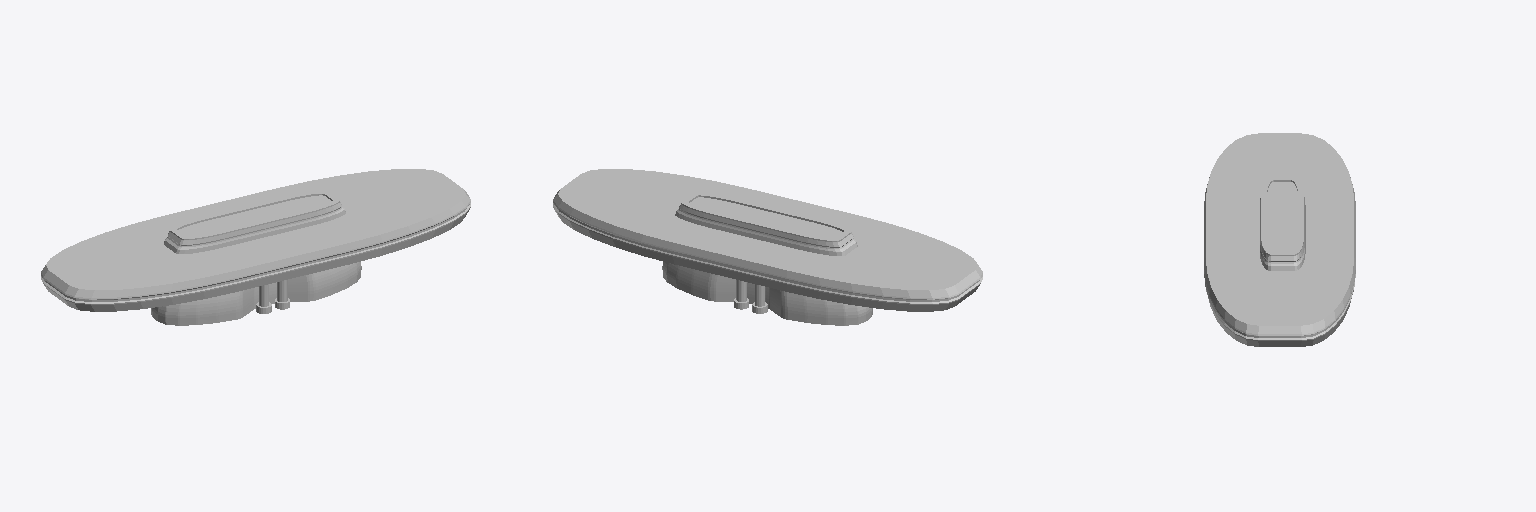
Rendered from Stolik.obj.
The picture shows the model from 3 angles: view 1: azimuth 30°, elevation 25°; view 2: azimuth 150°, elevation 25°; view 3: azimuth 270°, elevation 25°; orthographic projection.
Visible parts, largest first — view 1: Stolik.NR1_Cube.036; view 2: Stolik.NR1_Cube.036; view 3: Stolik.NR1_Cube.036.
Boxes of the visible parts, x1=… form: Stolik.NR1_Cube.036: x1=41, y1=169, x2=470, y2=325; Stolik.NR1_Cube.036: x1=553, y1=169, x2=982, y2=325; Stolik.NR1_Cube.036: x1=1204, y1=133, x2=1355, y2=346.
Bounding box in the file's own units: 19.68 × 3.72 × 6.42.